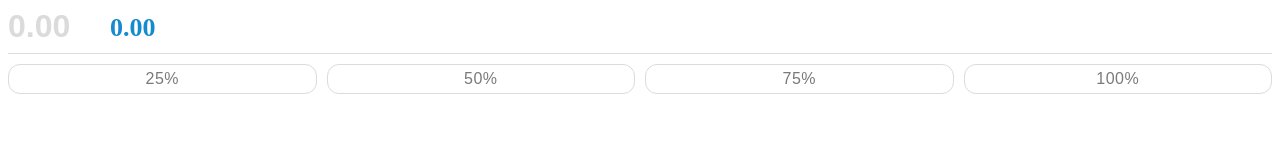
Scenario: Picker Component › validates input value on blur
Type "15" into the field with placeholder "0.00" at (56, 26), box [8,8,105,45]
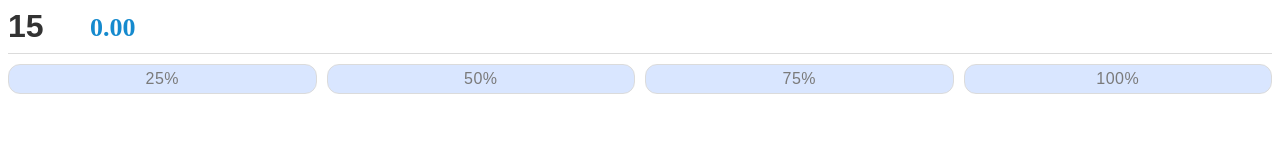
Leave the field with placeholder "0.00", box [8,8,85,45]
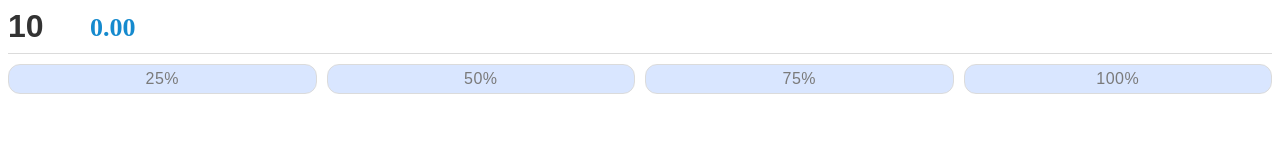
Expected: the field with placeholder "0.00" holds "10", [8,8,85,45]
